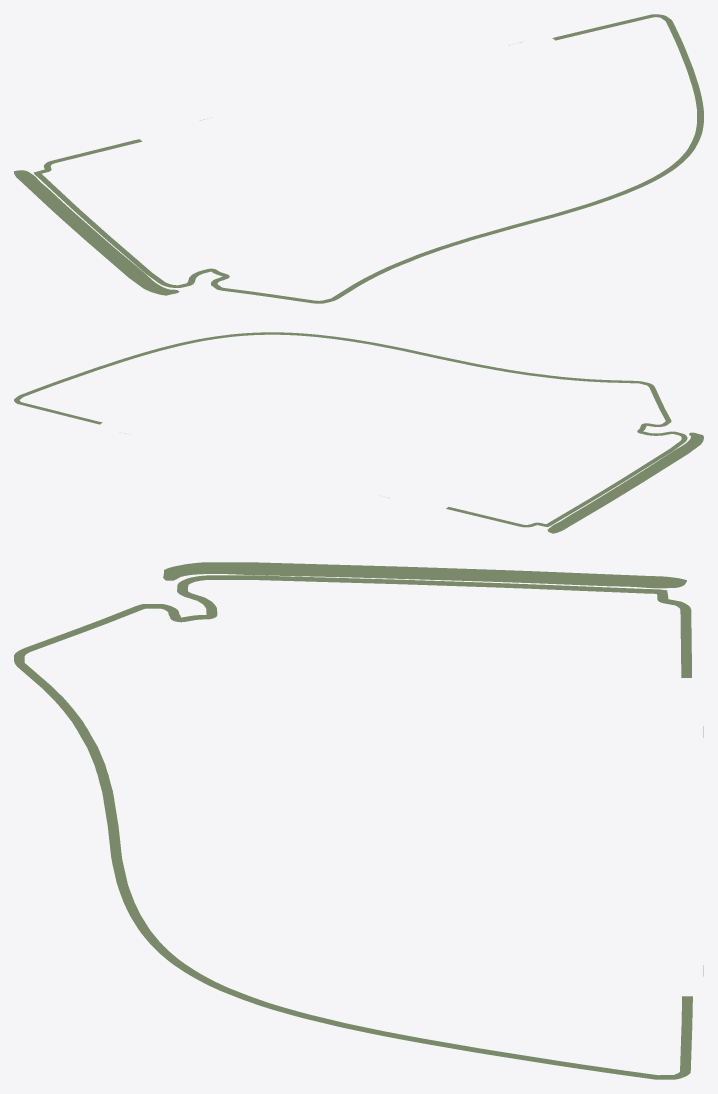
File: SM_MPR4_Site_CampusPlanting.fbx
3 views of the same model, one above another, from view 1: azimuth 30°, elevation 25°; view 2: azimuth 150°, elevation 25°; view 3: azimuth 270°, elevation 25° (orthographic). The views are drawn at different scales.
Parts seen in each view (by area): view 1: SM_MPR4_Site_CampusPlanting; view 2: SM_MPR4_Site_CampusPlanting; view 3: SM_MPR4_Site_CampusPlanting.
Part boxes in pixels (left/top/right/bottom): SM_MPR4_Site_CampusPlanting: left=14, top=14, right=703, bottom=303; SM_MPR4_Site_CampusPlanting: left=14, top=332, right=703, bottom=533; SM_MPR4_Site_CampusPlanting: left=14, top=562, right=703, bottom=1079.
Size of the model in its own units: 47573 by 26807 by 0.
